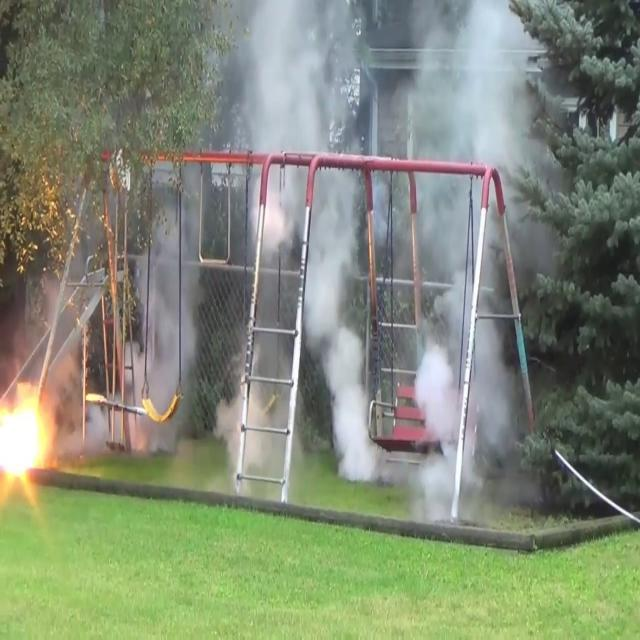Fire: (0, 380, 50, 486), (137, 383, 177, 428)
Smoke: (186, 1, 552, 474), (137, 177, 213, 399)
